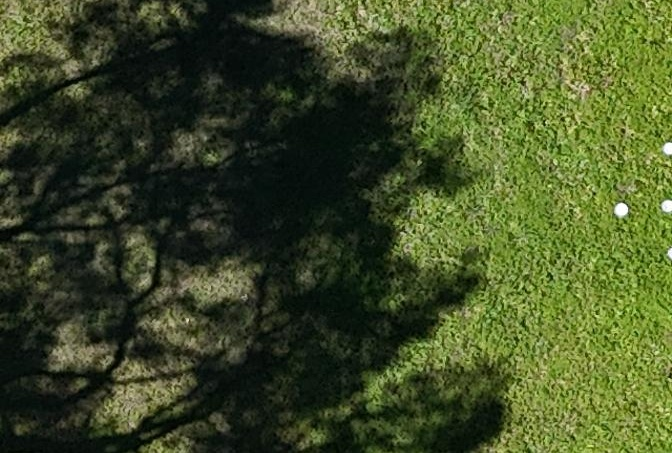bowl: (614, 202, 628, 217), (663, 141, 672, 156), (662, 199, 672, 212), (668, 246, 672, 260)
